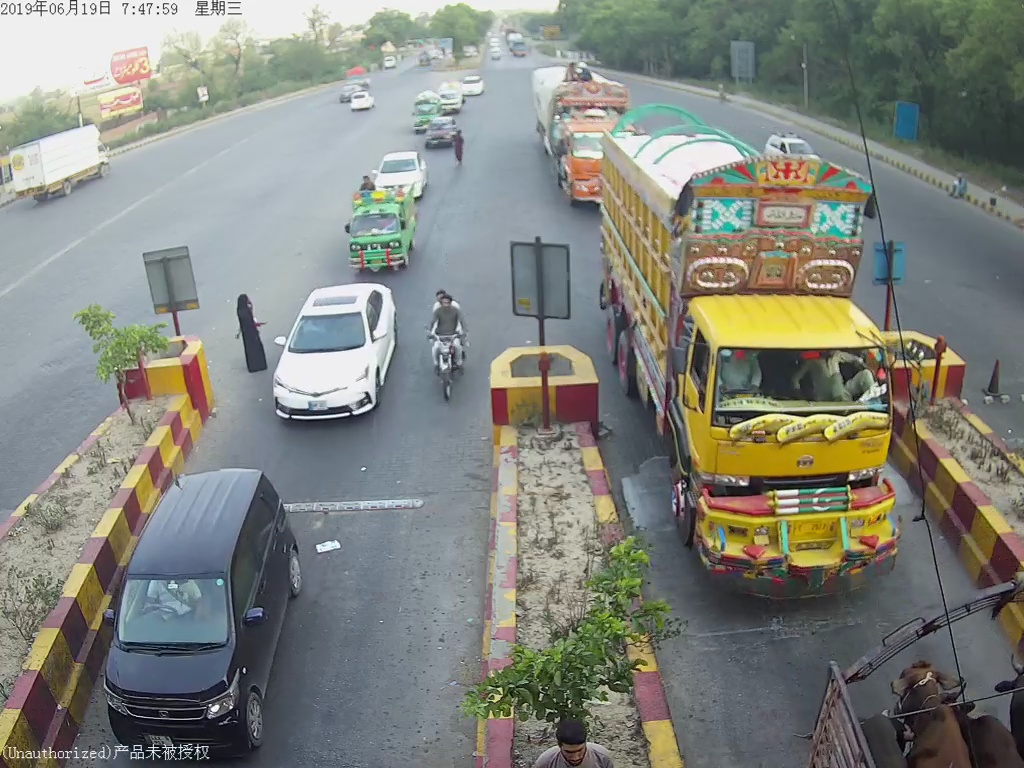Cat-1: (108, 462, 305, 753), (268, 282, 401, 424), (336, 189, 416, 268), (375, 153, 436, 199)
Cat-4: (611, 110, 916, 582)
Cat-5: (528, 58, 633, 206)
